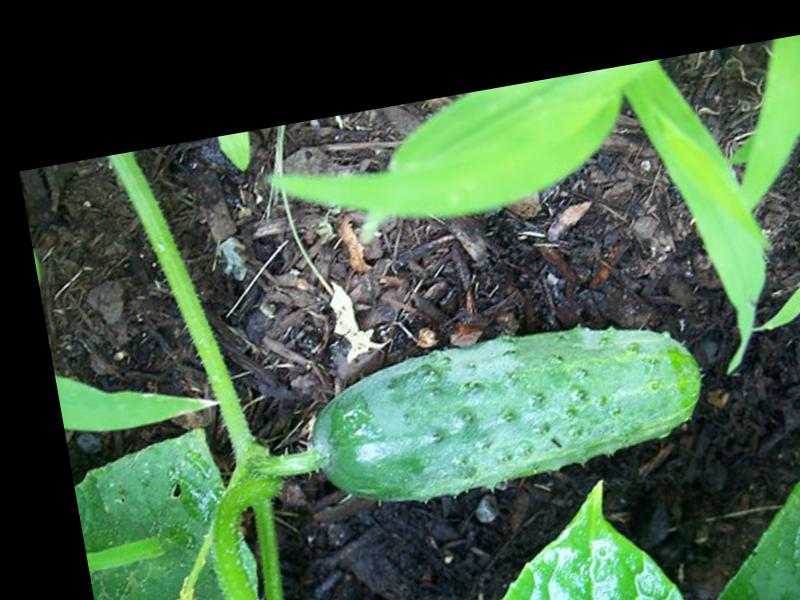Cucumber: (300, 303, 717, 516)
